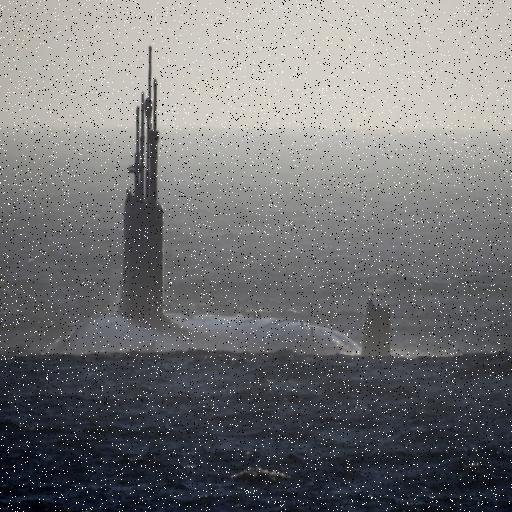submarine: (41, 37, 399, 359)
